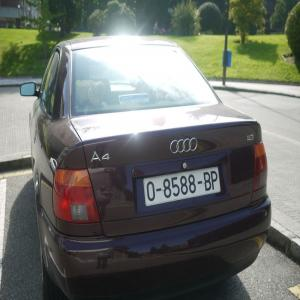Vehicle-registration-plate: (145, 168, 222, 208)
